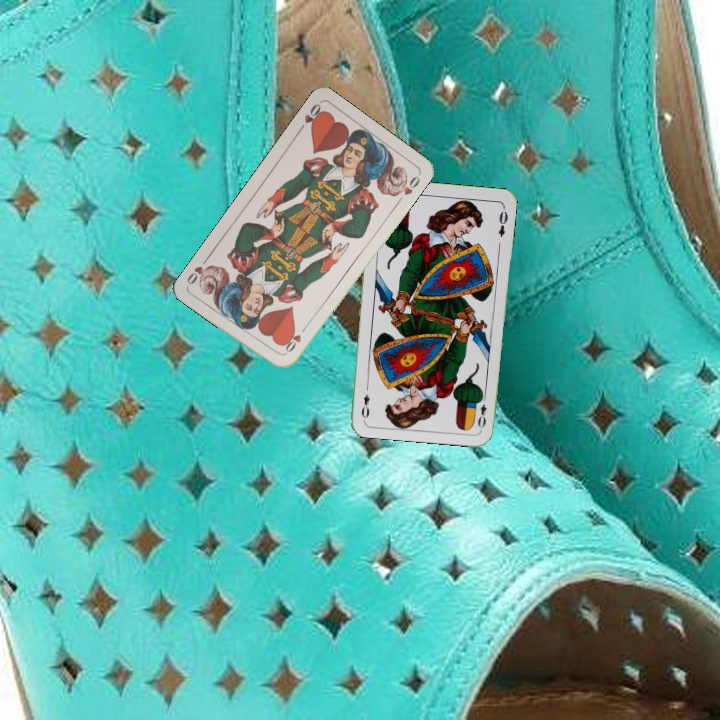EO: (474, 391, 489, 431)
HO: (294, 99, 326, 134), (280, 322, 310, 357)
